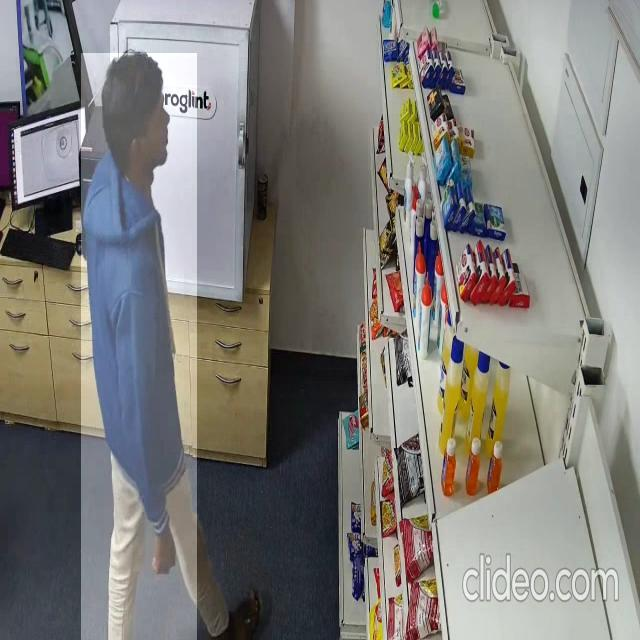normal: (81, 53, 197, 640)
